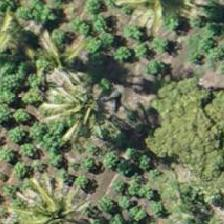coconut_tree: (42, 65, 132, 155), (6, 159, 96, 223), (0, 0, 51, 68)
